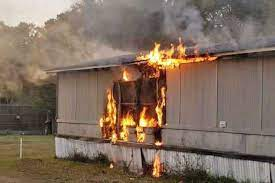smoke: (3, 3, 268, 64)
